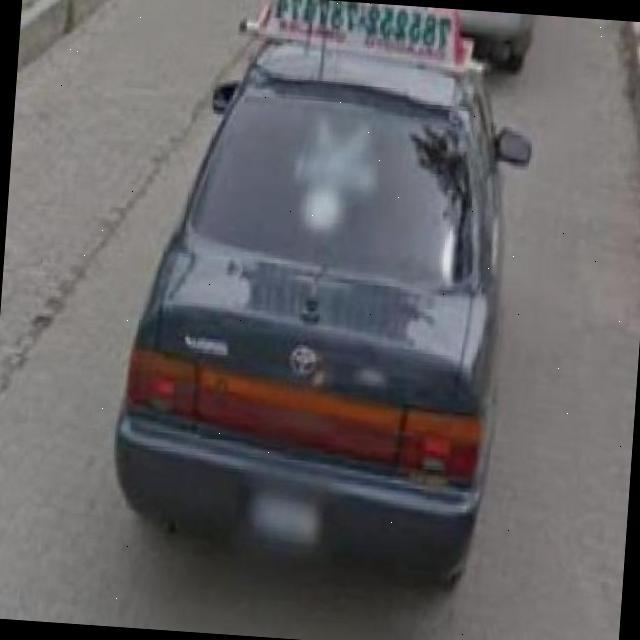car: (114, 14, 536, 600)
